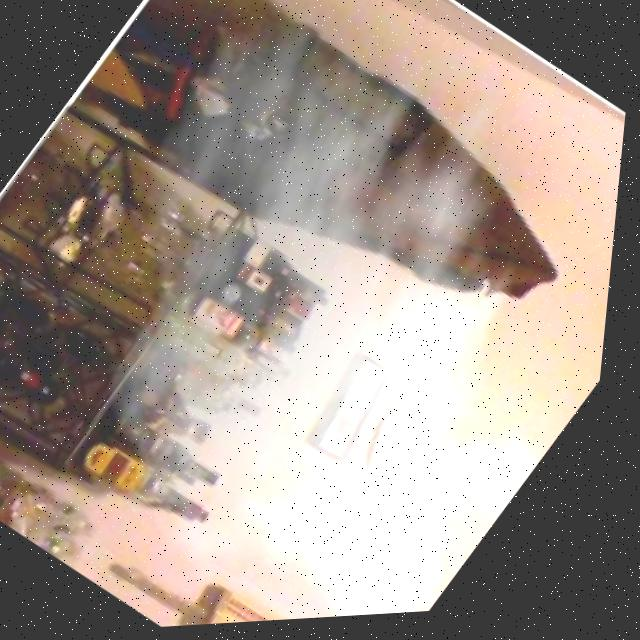Smoke: (0, 0, 627, 627)
